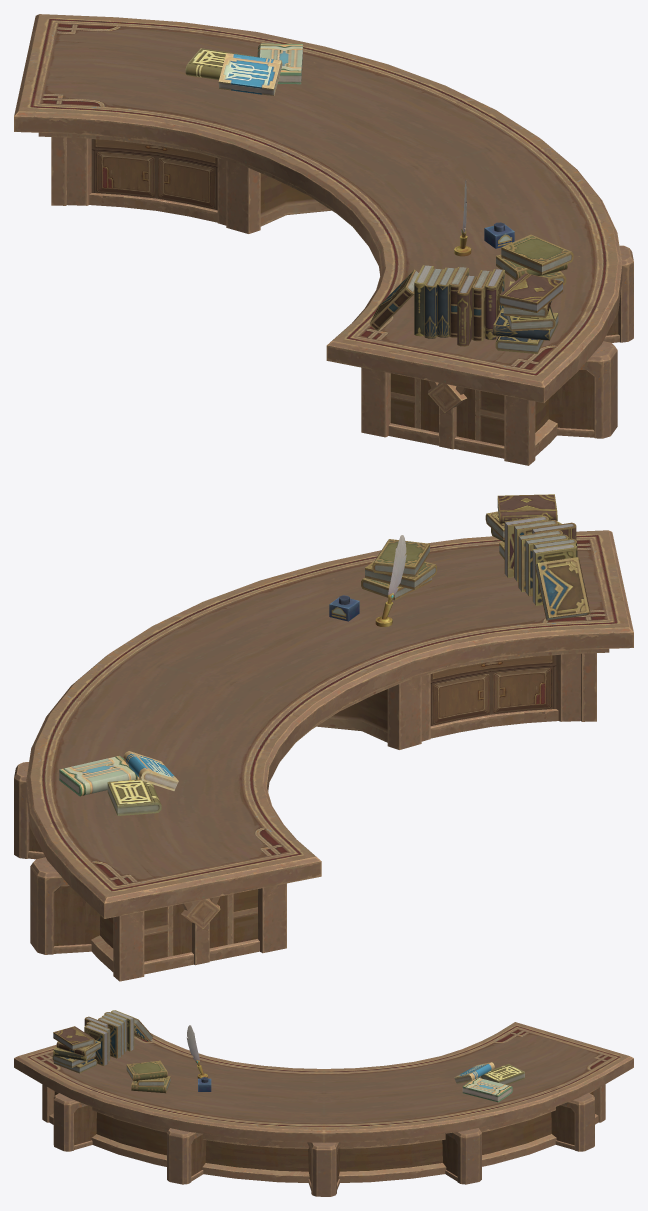
File: Homeworld_Interior_Fd_Table_Prop_DyzZhuo_01_Lod0.fbx
The picture shows the model from 3 angles, top to bottom: view 1: azimuth 30°, elevation 25°; view 2: azimuth 150°, elevation 25°; view 3: azimuth 270°, elevation 25°; orthographic projection. The views are drawn at different scales.
Parts seen in each view (by area): view 1: Indoor_Fd_Prop_Dyz_Table_01_Lod0(Clone), Indoor_Fd_Prop_Book_A_01_Vo(Clone), Indoor_Fd_Prop_Jieshewujian_09_Vo(Clone), Indoor_Fd_Prop_Book_A_03_Vo(Clone); view 2: Indoor_Fd_Prop_Dyz_Table_01_Lod0(Clone), Indoor_Fd_Prop_Book_A_01_Vo(Clone), Indoor_Fd_Prop_Jieshewujian_09_Vo(Clone), Indoor_Fd_Prop_Book_A_03_Vo(Clone), Indoor_Fd_Prop_Hotel_Daoju_A_10_Vo(Clone); view 3: Indoor_Fd_Prop_Dyz_Table_01_Lod0(Clone), Indoor_Fd_Prop_Book_A_01_Vo(Clone), Indoor_Fd_Prop_Jieshewujian_09_Vo(Clone), Indoor_Fd_Prop_Book_A_03_Vo(Clone), Indoor_Fd_Prop_Hotel_Daoju_A_10_Vo(Clone).
Part boxes in pixels (left/top/right/bottom): Indoor_Fd_Prop_Dyz_Table_01_Lod0(Clone): left=14, top=14, right=633, bottom=465; Indoor_Fd_Prop_Book_A_01_Vo(Clone): left=369, top=265, right=562, bottom=353; Indoor_Fd_Prop_Jieshewujian_09_Vo(Clone): left=185, top=43, right=302, bottom=95; Indoor_Fd_Prop_Book_A_03_Vo(Clone): left=496, top=234, right=573, bottom=285; Indoor_Fd_Prop_Dyz_Table_01_Lod0(Clone): left=14, top=530, right=633, bottom=981; Indoor_Fd_Prop_Book_A_01_Vo(Clone): left=485, top=494, right=590, bottom=620; Indoor_Fd_Prop_Jieshewujian_09_Vo(Clone): left=59, top=751, right=178, bottom=815; Indoor_Fd_Prop_Book_A_03_Vo(Clone): left=361, top=539, right=436, bottom=600; Indoor_Fd_Prop_Hotel_Daoju_A_10_Vo(Clone): left=375, top=535, right=406, bottom=626; Indoor_Fd_Prop_Dyz_Table_01_Lod0(Clone): left=14, top=1022, right=633, bottom=1196; Indoor_Fd_Prop_Book_A_01_Vo(Clone): left=52, top=1010, right=153, bottom=1073; Indoor_Fd_Prop_Jieshewujian_09_Vo(Clone): left=454, top=1062, right=524, bottom=1102; Indoor_Fd_Prop_Book_A_03_Vo(Clone): left=126, top=1060, right=170, bottom=1093; Indoor_Fd_Prop_Hotel_Daoju_A_10_Vo(Clone): left=186, top=1025, right=207, bottom=1078.
Size of the model in its own units: 3.02 by 1.38 by 6.88.
